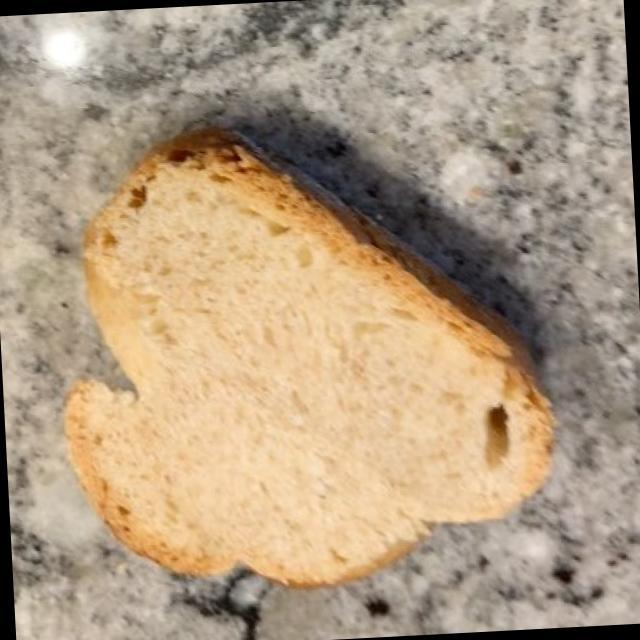Bread: (41, 100, 570, 606)
